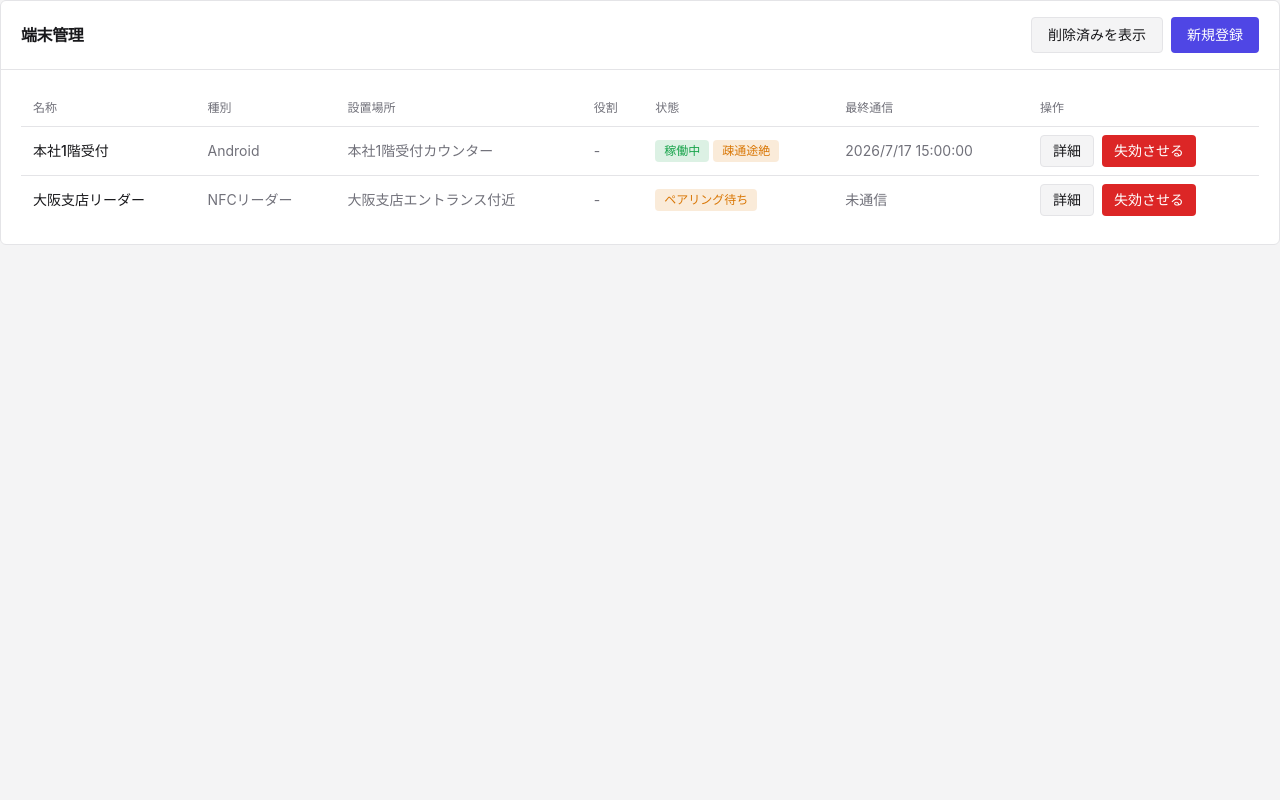
Test: DeviceListPage › opens the device detail modal from the 詳細 button
Expected: the text "大阪支店リーダー" is shown, 21,175 -> 196,224
Click the button "詳細" in the row of "大阪支店リーダー" at (1067, 200), box 1040,184 -> 1094,216
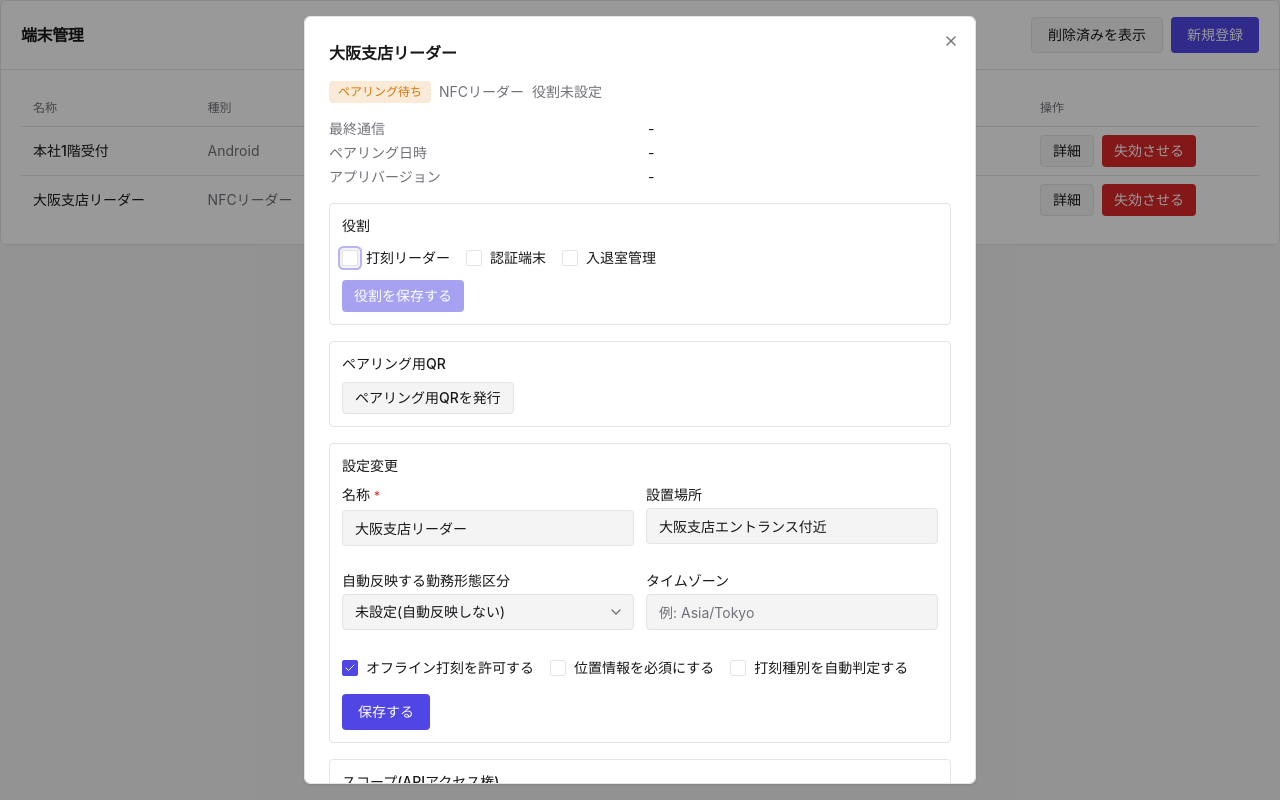
Result: the heading "大阪支店リーダー" is shown at 329,43 -> 457,63
